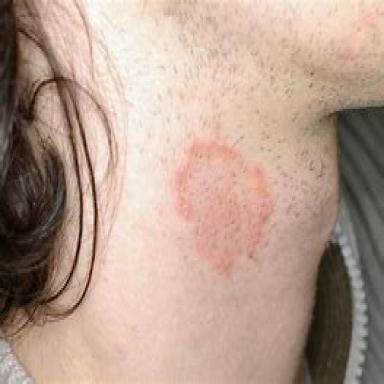Tinea-Corporis: (173, 138, 272, 273)
